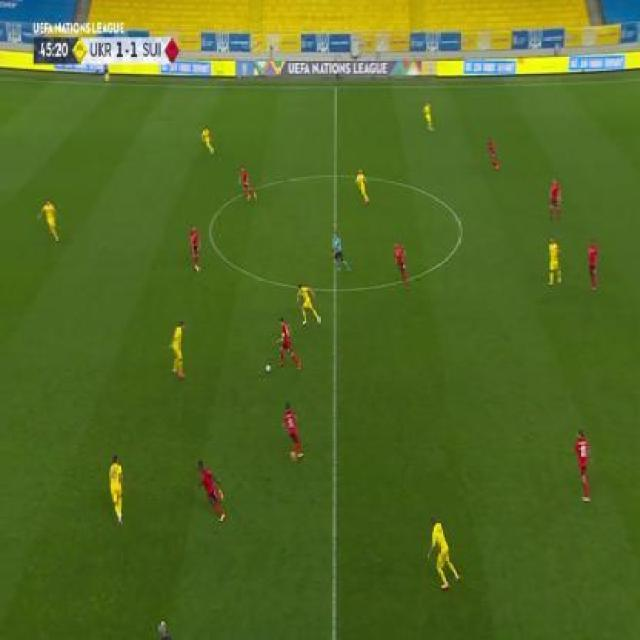ball: (265, 362, 271, 373)
player: (424, 516, 461, 593), (195, 459, 228, 525), (572, 426, 594, 505), (280, 399, 305, 461), (275, 317, 301, 373), (166, 320, 188, 379), (108, 453, 125, 527), (295, 282, 321, 327), (36, 198, 62, 241), (392, 239, 411, 290), (330, 229, 350, 274), (547, 236, 563, 287), (586, 238, 600, 295), (238, 165, 257, 202), (549, 177, 563, 222), (354, 169, 371, 206), (189, 225, 202, 273), (201, 125, 217, 156), (486, 137, 500, 171), (422, 100, 435, 131), (157, 618, 171, 640), (103, 64, 111, 83)
